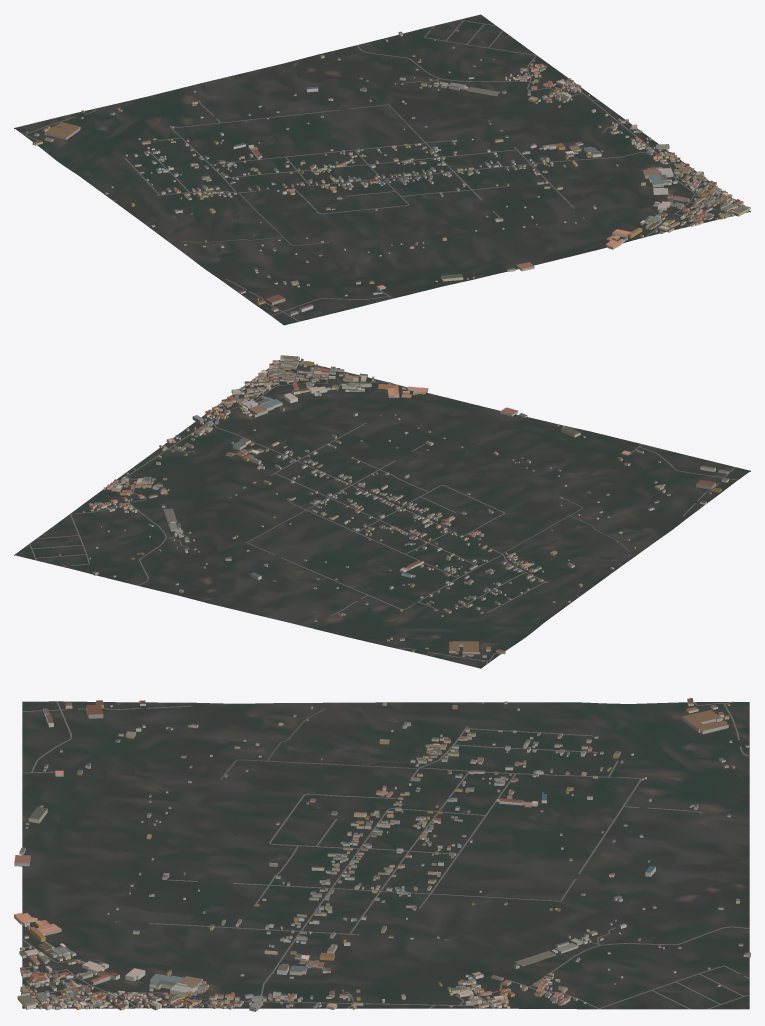
3 views of the same model, one above another, from view 1: azimuth 30°, elevation 25°; view 2: azimuth 150°, elevation 25°; view 3: azimuth 270°, elevation 25° (orthographic). The views are drawn at different scales.
Visible parts, largest first — view 1: ground, buildings, roads; view 2: ground, buildings, roads; view 3: ground, buildings, roads.
Part boxes in pixels (x1,y1,x2,y2): ground: (14, 14, 750, 325); buildings: (26, 29, 750, 315); roads: (19, 19, 739, 321); ground: (14, 361, 750, 668); buildings: (59, 355, 728, 661); roads: (29, 360, 737, 664); ground: (22, 701, 749, 1009); buildings: (14, 698, 750, 1011); roads: (22, 701, 749, 1009).
Size of the model in its own units: 1422 by 18.22 by 1420.
